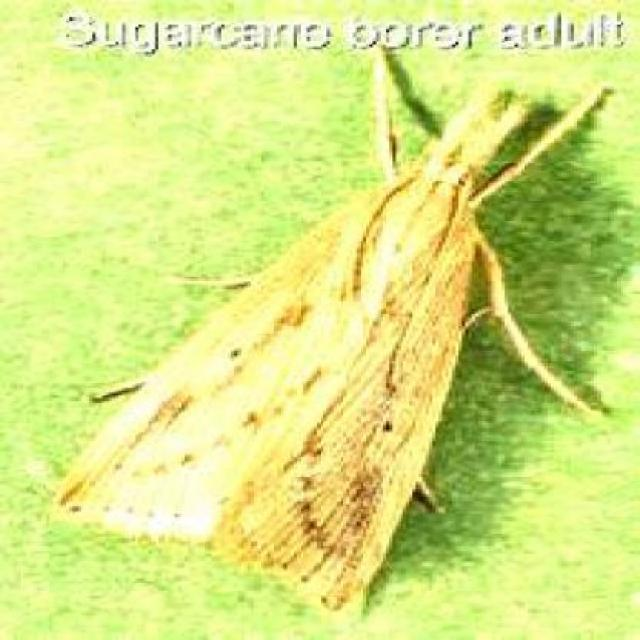stem-borer: (43, 62, 617, 623)
